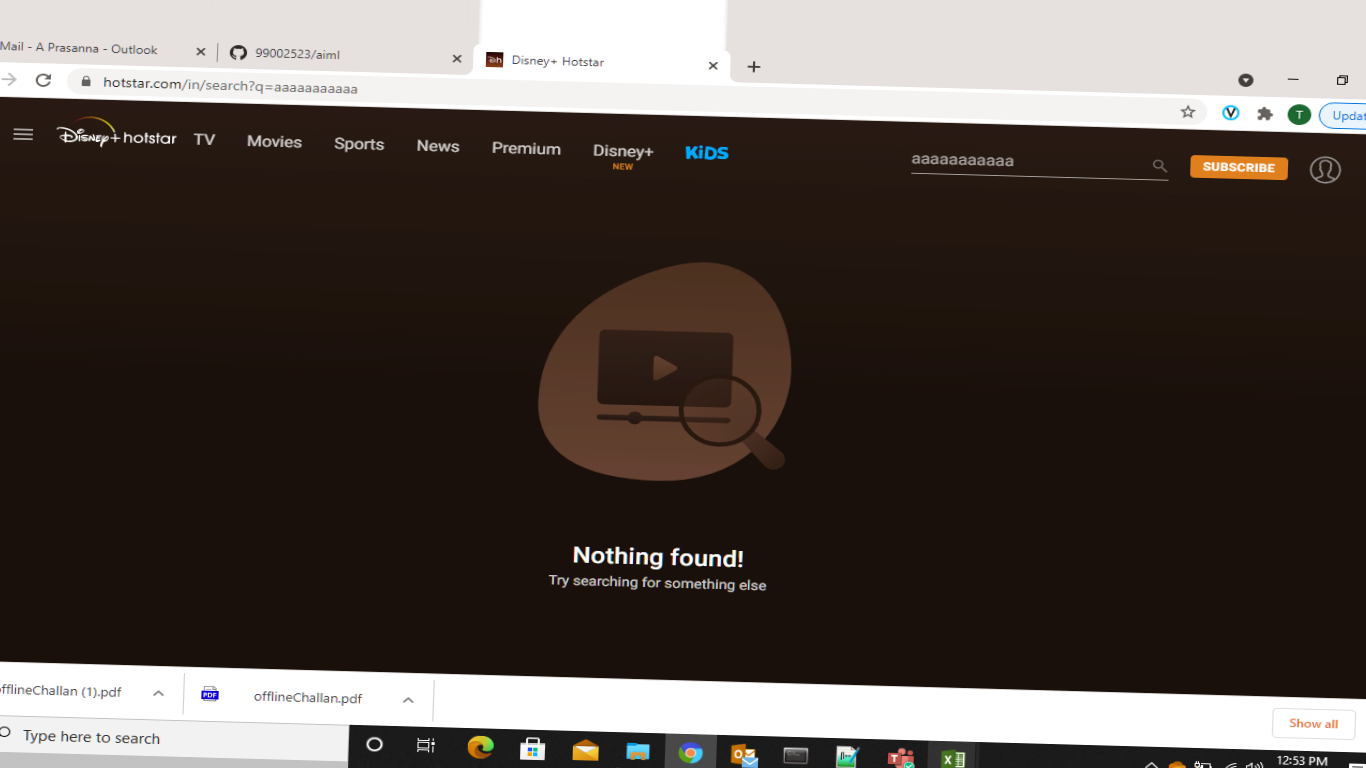noresultsfound: (519, 516, 823, 646)
profileicon: (1300, 146, 1348, 192)
searchicon: (1123, 142, 1174, 183)
searchtextbox: (890, 137, 1175, 197)
